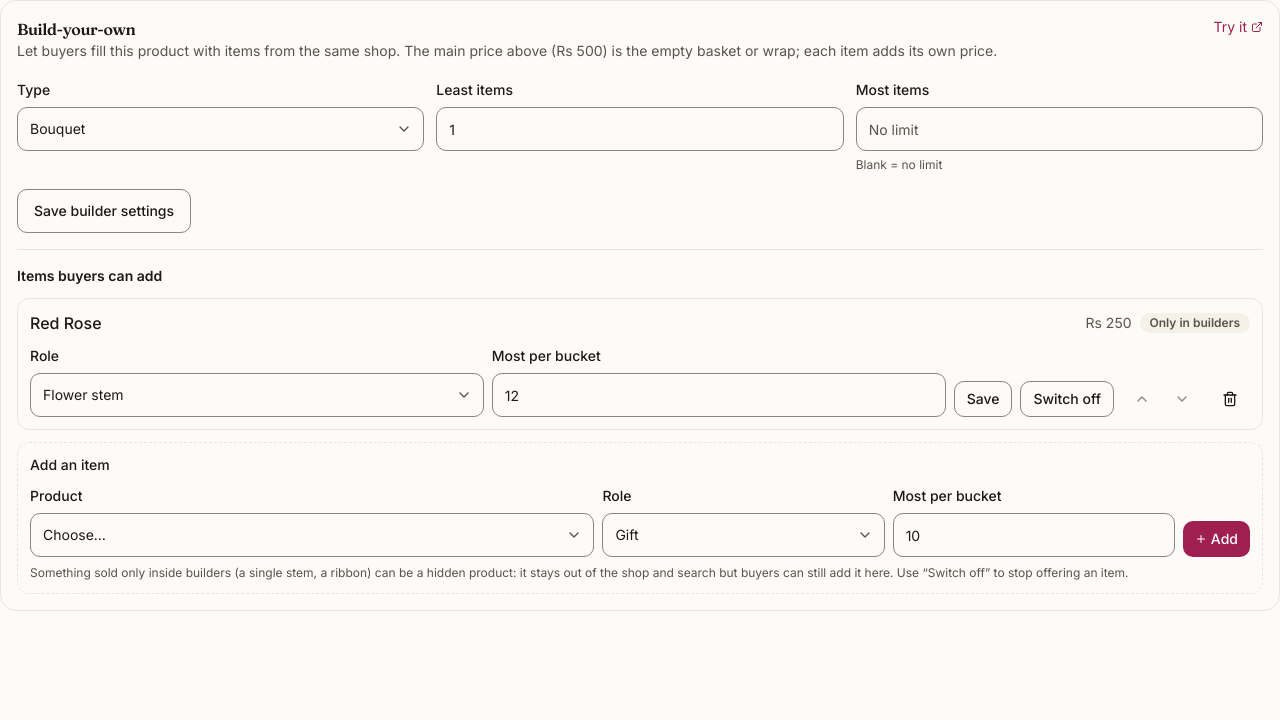
Test case: BuilderEditor › asks before removing an item and shows server errors
Click the button named "Remove Red Rose" at [1230, 399], box [1210,381,1250,417]
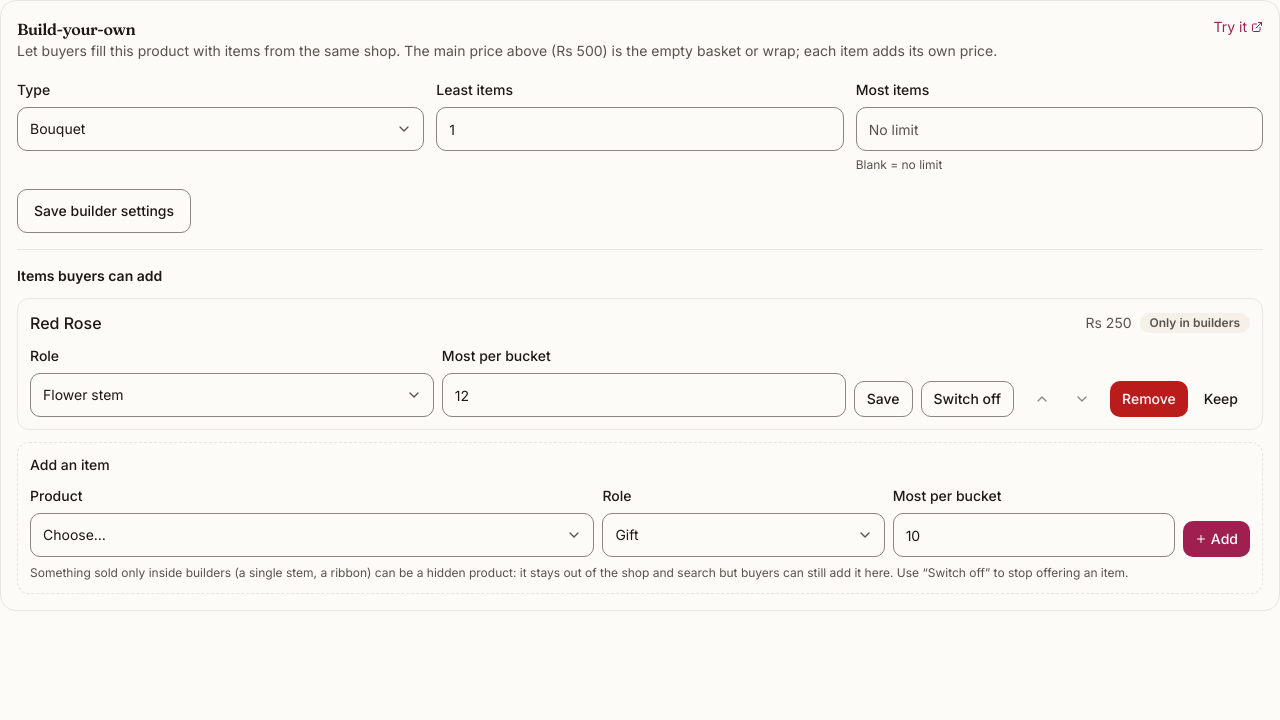
Click the button "Remove" at [1149, 399], box [1110,381,1188,417]
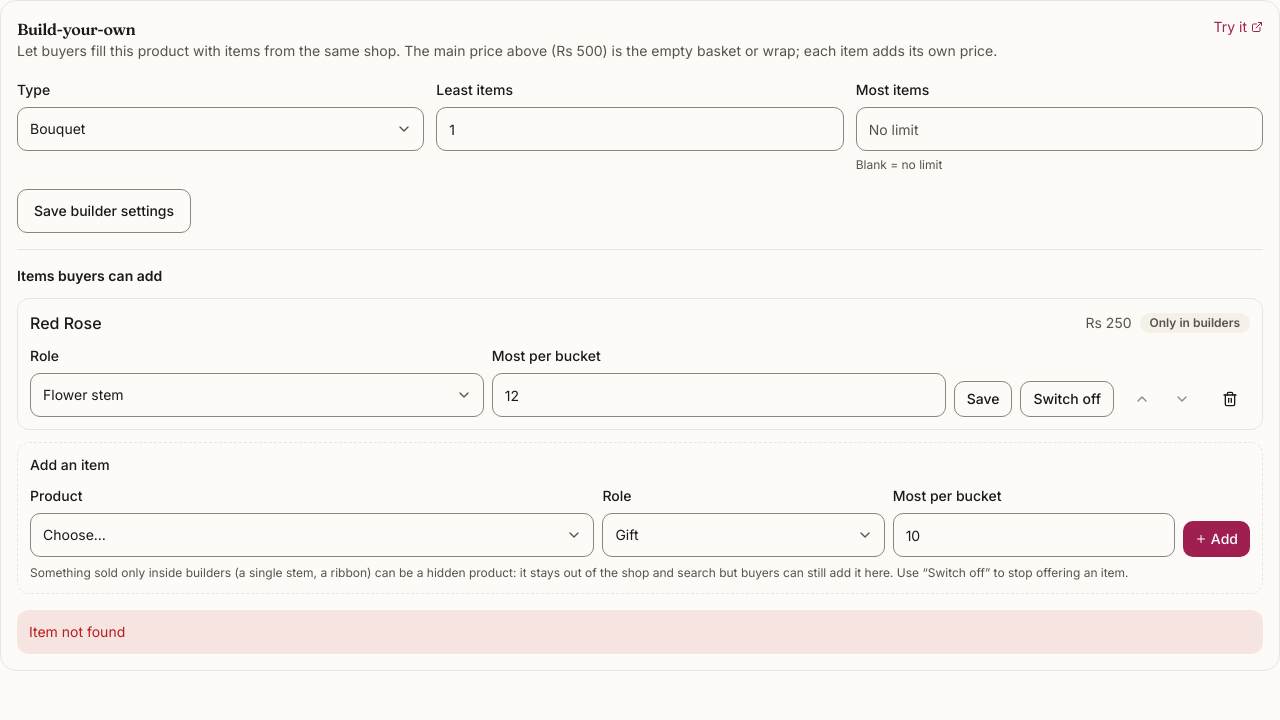
Expected: the message reads "Item not found", [29,623,125,640]
